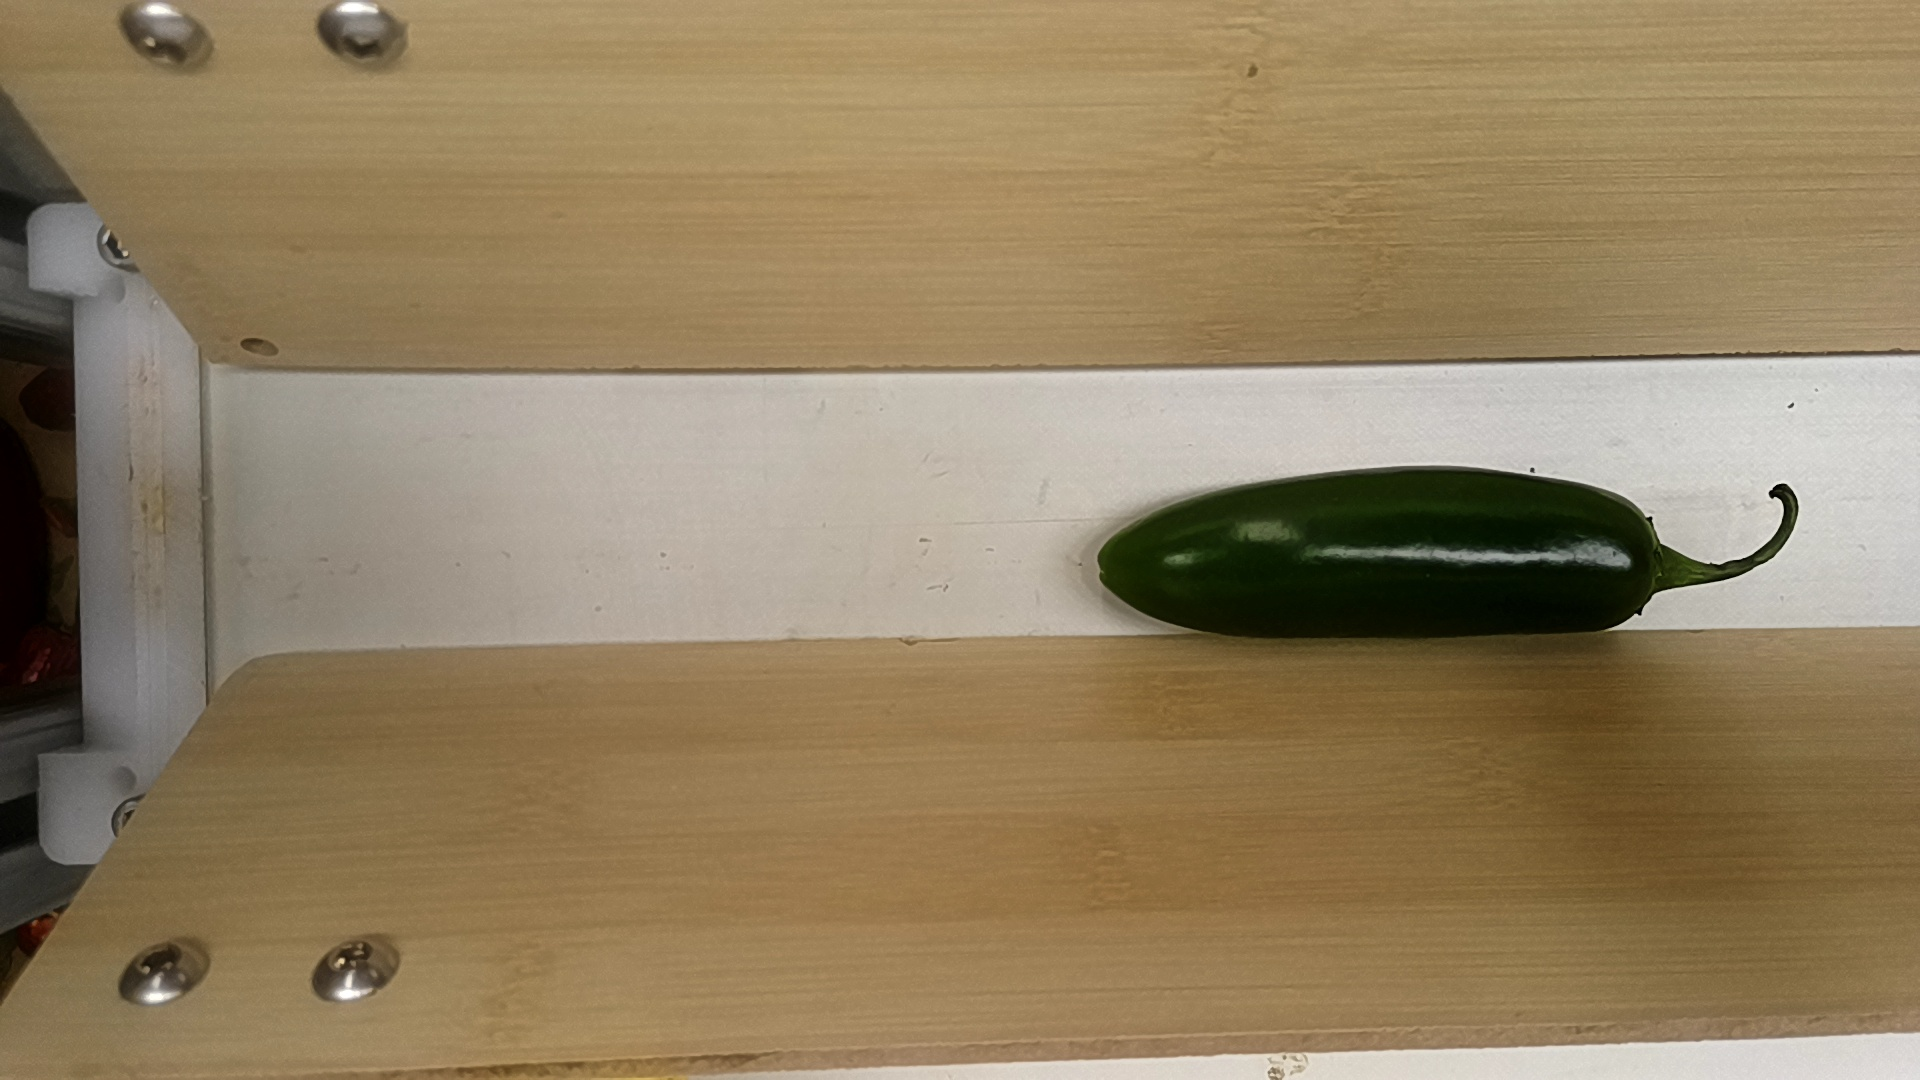Cut Point: (1600, 483, 1684, 632)
